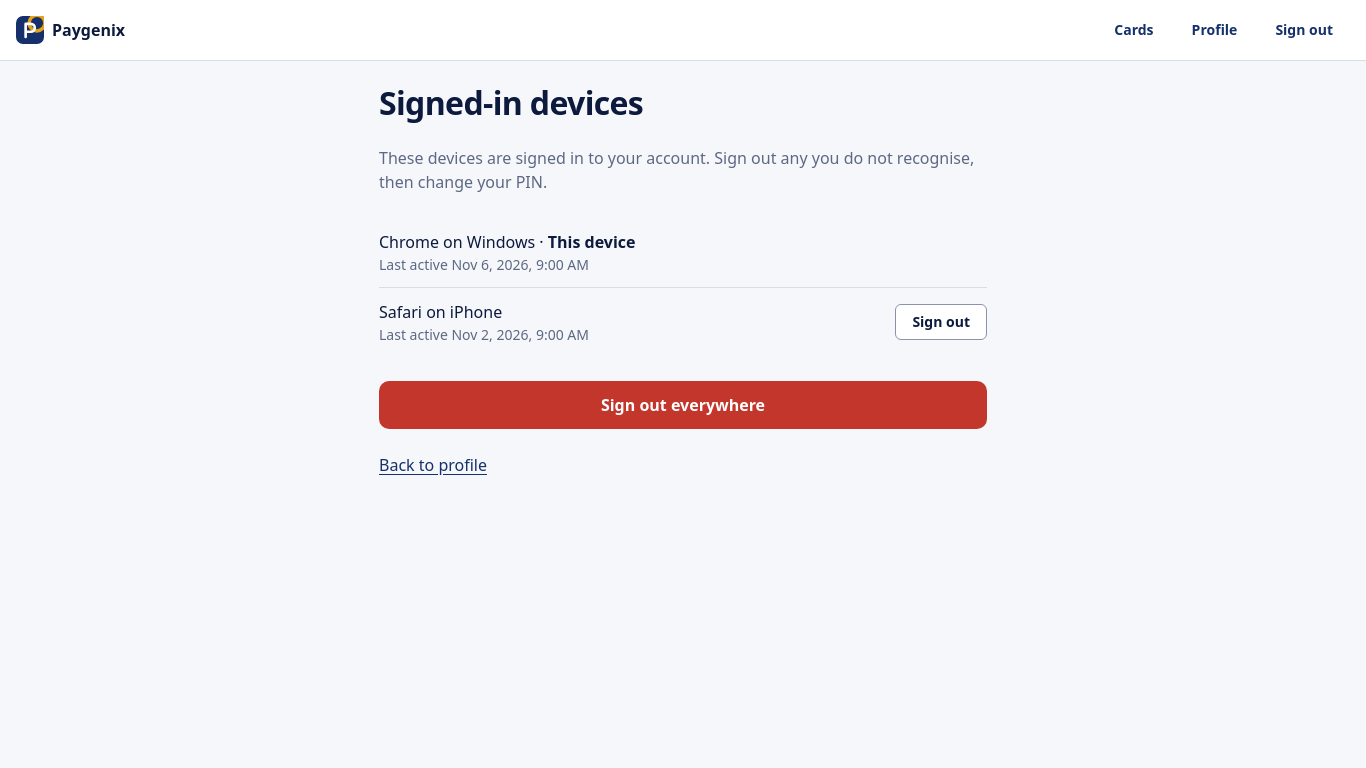
a failed revoke keeps the row
Click the button with aria-label "Sign out Safari on iPhone" at (941, 322), box top-left (895, 304), bottom-right (987, 340)
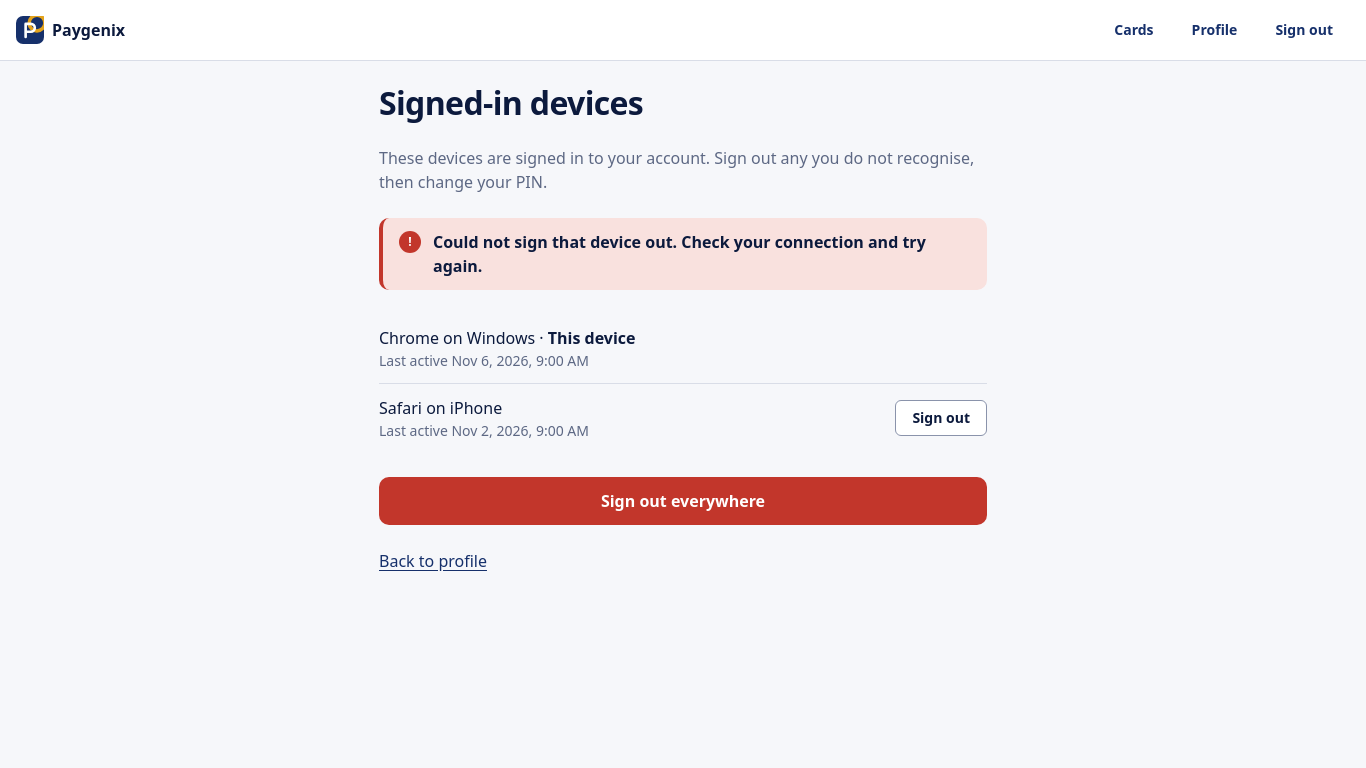
Expected: the number of list items is 2, top-left (379, 327), bottom-right (636, 370); top-left (379, 383), bottom-right (987, 453)
Now the text "Could not sign that device out" is shown, box top-left (433, 231), bottom-right (926, 277)
